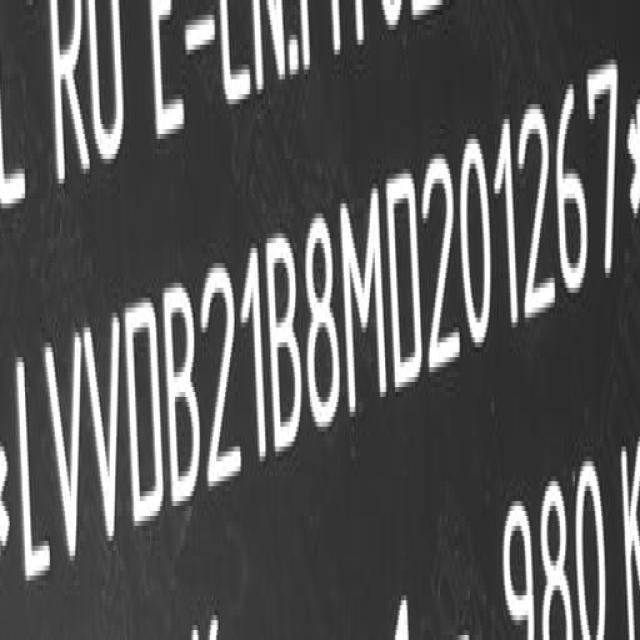0: (458, 132, 491, 352)
1: (240, 246, 267, 469)
2: (204, 271, 242, 493), (518, 97, 555, 323), (424, 155, 462, 374)
6: (556, 70, 592, 302)
7: (594, 55, 621, 292)
8: (304, 212, 342, 434), (491, 99, 523, 337)
B: (167, 281, 204, 511), (269, 237, 302, 456)
D: (124, 298, 162, 530), (388, 168, 426, 388)
L: (14, 347, 48, 585)
M: (340, 182, 388, 408)
V: (44, 328, 83, 575), (86, 310, 125, 552)
